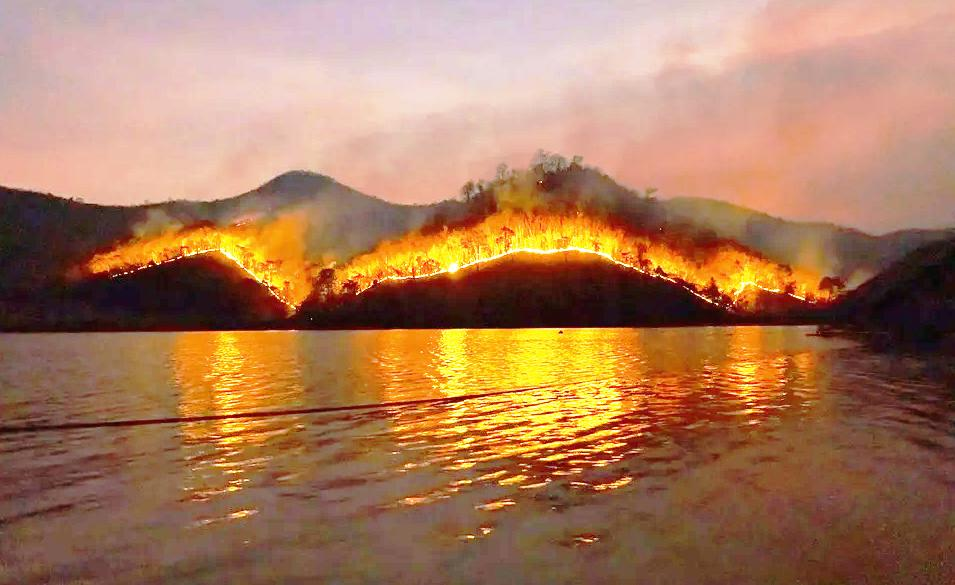fire: (89, 187, 847, 330)
